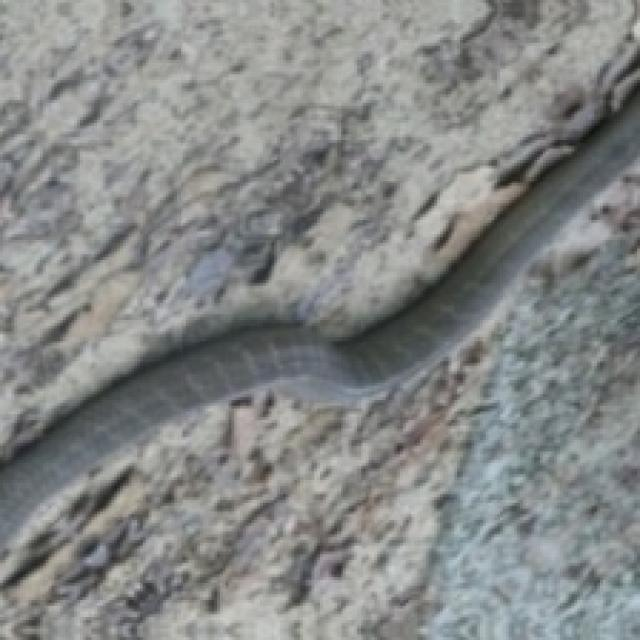king cobra: (0, 0, 637, 457), (3, 343, 486, 637)
